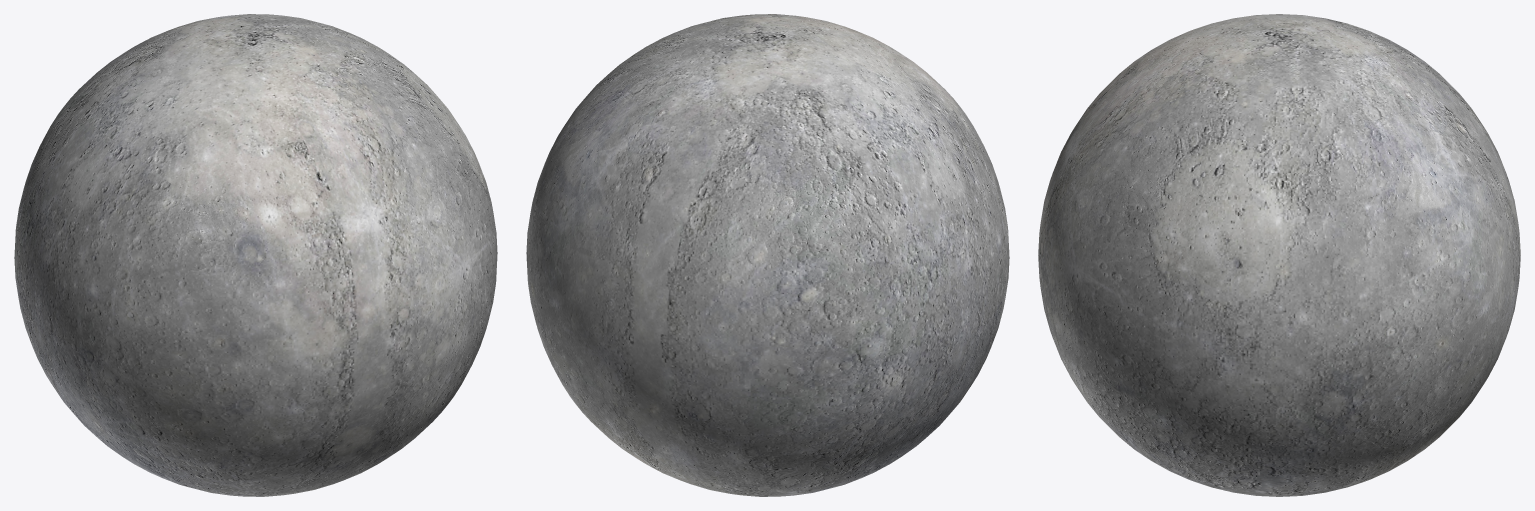
File: mercury_small_brighten.glb
3 views of the same model, side by side, from view 1: azimuth 30°, elevation 25°; view 2: azimuth 150°, elevation 25°; view 3: azimuth 270°, elevation 25° (orthographic).
Visible parts, largest first — view 1: Cube.008; view 2: Cube.008; view 3: Cube.008.
Boxes of the visible parts, box(x1,y1,x2,y2) form: Cube.008: box(14, 14, 497, 496); Cube.008: box(526, 14, 1009, 496); Cube.008: box(1038, 14, 1520, 496).
Bounding box in the file's own units: 10 × 10 × 10.
1 material, 1 textured.
